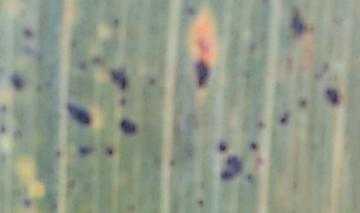tarspot: (66, 100, 90, 125), (290, 8, 309, 38), (222, 155, 242, 181), (107, 69, 127, 88), (196, 61, 209, 87), (119, 119, 136, 135), (23, 47, 43, 60), (10, 73, 24, 89), (326, 88, 338, 104), (79, 145, 92, 156), (92, 55, 105, 66), (23, 26, 33, 39), (78, 59, 88, 70), (186, 5, 196, 16), (66, 178, 76, 189), (217, 142, 227, 152), (257, 119, 267, 129), (246, 173, 256, 183), (105, 144, 114, 155), (148, 76, 157, 87), (113, 16, 121, 27), (322, 62, 330, 73), (24, 198, 32, 208), (169, 158, 177, 168), (282, 113, 289, 124), (120, 95, 127, 106), (250, 141, 259, 149), (55, 148, 62, 158), (1, 122, 6, 135), (198, 198, 205, 207), (300, 99, 307, 107), (1, 105, 7, 112)
